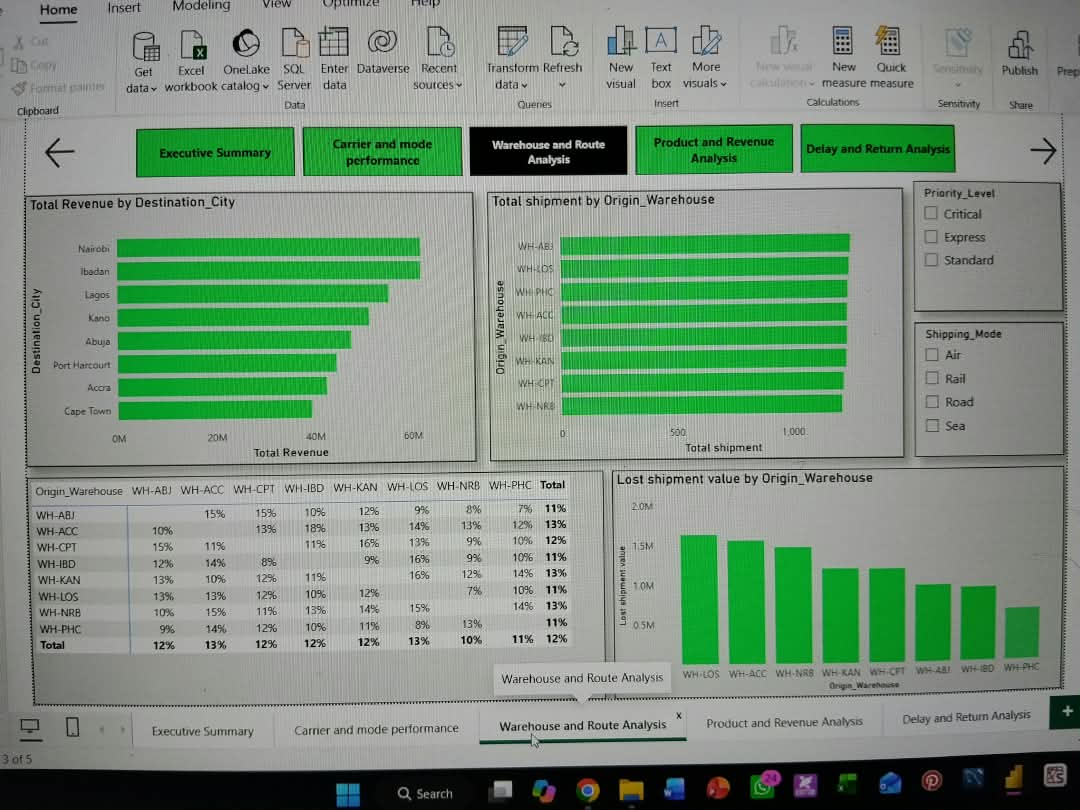

This screenshot's page, from the dashboard's own definition file:
{"tool":"powerbi","page":{"name":"Warehouse and Route Analysis","canvas":[1280,720],"ordinal":2},"visuals":[{"type":"barChart","fields":{"Category":["Raw_Data.Destination_City"],"Y":["Raw_Data.Total Revenue"]},"box":[0,96.6,546.6,330.2],"z":0},{"type":"barChart","fields":{"Y":["Raw_Data.Total shipment"],"Category":["Raw_Data.Origin_Warehouse"]},"box":[563.7,96.6,508.7,330.2],"z":1000},{"type":"columnChart","fields":{"Category":["Raw_Data.Origin_Warehouse"],"Y":["Raw_Data.Lost shipment value"]},"box":[714.1,440.2,562.5,280],"z":2000},{"type":"pivotTable","fields":{"Rows":["Raw_Data.Origin_Warehouse"],"Columns":["Raw_Data.Destination_Warehouse"],"Values":["Raw_Data.Delay rate %"]},"box":[0,440.2,703.1,280],"z":3000},{"type":"slicer","fields":{"Values":["Raw_Data.Priority_Level"]},"box":[1085.9,88,190.8,160.2],"z":4000},{"type":"slicer","fields":{"Values":["Raw_Data.Shipping_Mode"]},"box":[1085.9,261.7,190.8,165.1],"z":5000},{"type":"pageNavigator","box":[139.4,18.3,1000.3,59.9],"z":6000},{"type":"actionButton","box":[19.6,18.3,48.9,51.4],"z":7000},{"type":"actionButton","box":[1231.4,24.5,45.2,48.9],"z":8000}]}

Visuals, with their boxes in screenshot pixels (x1, y1, x2, y2):
barChart - Raw_Data.Destination_City x Raw_Data.Total Revenue: 37:190:475:455
barChart - Raw_Data.Total shipment x Raw_Data.Origin_Warehouse: 489:190:897:455
columnChart - Raw_Data.Origin_Warehouse x Raw_Data.Lost shipment value: 610:466:1061:691
pivotTable - Raw_Data.Origin_Warehouse x Raw_Data.Destination_Warehouse: 37:466:601:691
slicer - Raw_Data.Priority_Level: 908:183:1061:312
slicer - Raw_Data.Shipping_Mode: 908:323:1061:455
pageNavigator: 148:127:951:175
actionButton: 52:127:92:168
actionButton: 1025:132:1061:171
